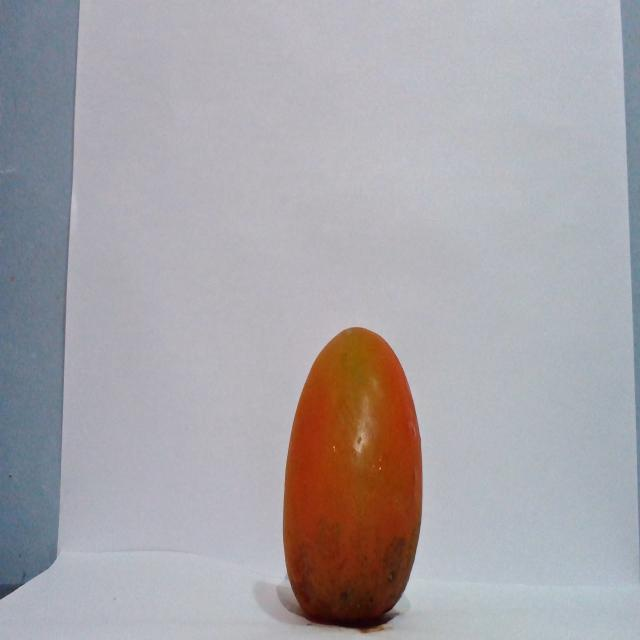Red: (280, 325, 424, 626)
